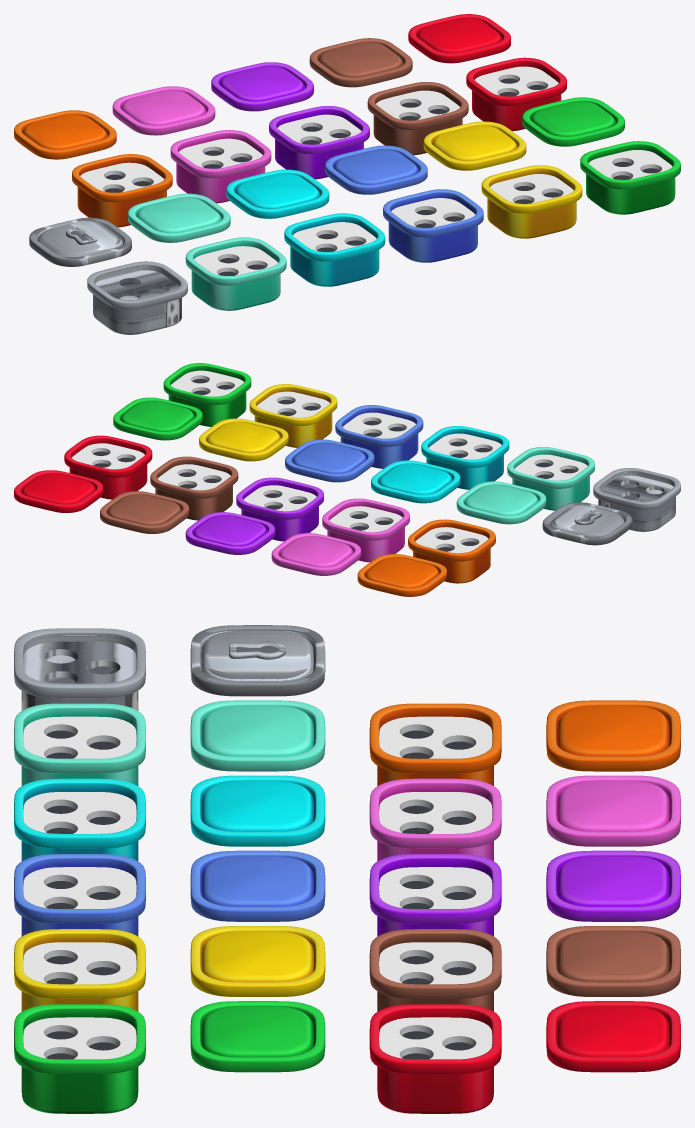
Rendered from pack_tray_lid.fbx.
3 views of the same model, one above another, from view 1: azimuth 30°, elevation 25°; view 2: azimuth 150°, elevation 25°; view 3: azimuth 270°, elevation 25° (orthographic). The views are drawn at different scales.
Visible parts, largest first — view 1: obj_tray_yellow, obj_tray_gray, obj_tray_cyan, obj_tray_green, obj_tray_blue, obj_tray_unblock, obj_tray_pink, obj_tray_orange, obj_tray_brown, obj_tray_red, obj_tray_pur, obj_lid_pink (+10 smaller); view 2: obj_tray_orange, obj_tray_unblock, obj_tray_red, obj_tray_yellow, obj_tray_blue, obj_tray_green, obj_tray_brown, obj_tray_cyan, obj_tray_pur, obj_tray_pink, obj_tray_gray, obj_lid_gray (+10 smaller); view 3: obj_tray_green, obj_tray_red, obj_tray_yellow, obj_tray_gray, obj_tray_brown, obj_tray_orange, obj_tray_unblock, obj_tray_cyan, obj_tray_pink, obj_tray_pur, obj_tray_blue, obj_lid_gray (+10 smaller).
Part boxes in pixels (x1,y1,x2,y2): obj_tray_yellow: (481, 165, 582, 238); obj_tray_gray: (185, 237, 286, 310); obj_tray_cyan: (284, 213, 385, 286); obj_tray_green: (580, 141, 680, 214); obj_tray_blue: (383, 189, 483, 262); obj_tray_unblock: (87, 261, 187, 334); obj_tray_pink: (170, 130, 271, 203); obj_tray_orange: (72, 154, 172, 227); obj_tray_brown: (367, 82, 468, 155); obj_tray_red: (466, 57, 566, 131); obj_tray_pur: (269, 106, 369, 179); obj_lid_pink: (112, 86, 215, 135); obj_tray_orange: (408, 519, 495, 583); obj_tray_unblock: (593, 468, 680, 531); obj_tray_red: (64, 435, 152, 499); obj_tray_yellow: (249, 384, 337, 447); obj_tray_blue: (335, 405, 423, 468); obj_tray_green: (163, 363, 251, 426); obj_tray_brown: (150, 456, 238, 520); obj_tray_cyan: (421, 426, 509, 489); obj_tray_pur: (236, 477, 323, 541); obj_tray_pink: (322, 498, 409, 562); obj_tray_gray: (507, 447, 594, 510); obj_lid_gray: (456, 481, 546, 524); obj_tray_green: (14, 1004, 145, 1113); obj_tray_red: (369, 1004, 501, 1113); obj_tray_yellow: (14, 929, 145, 1011); obj_tray_gray: (14, 703, 145, 785); obj_tray_brown: (369, 929, 501, 1011); obj_tray_orange: (369, 703, 501, 785); obj_tray_unblock: (14, 628, 145, 710); obj_tray_cyan: (14, 778, 145, 860); obj_tray_pink: (369, 778, 501, 861); obj_tray_pur: (369, 854, 501, 936); obj_tray_blue: (14, 854, 145, 936); obj_lid_gray: (190, 700, 325, 771).
Bounding box in the file's own units: 17.42 × 1.21 × 11.25.
